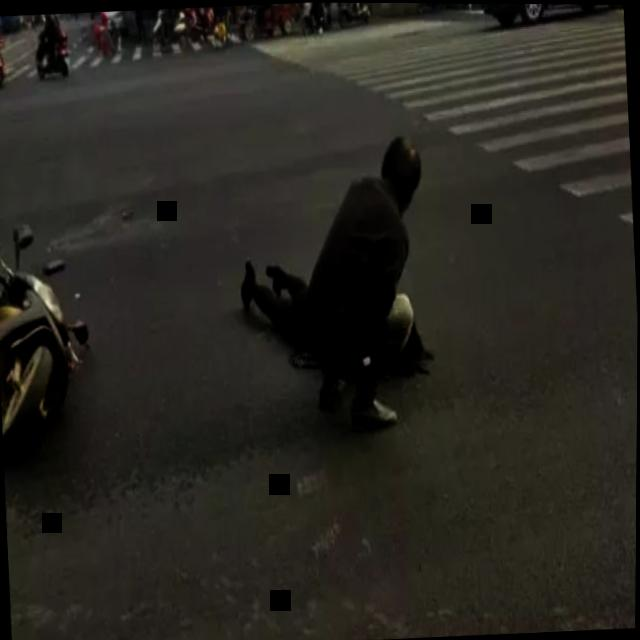Fall-Detected: (224, 228, 430, 401)
